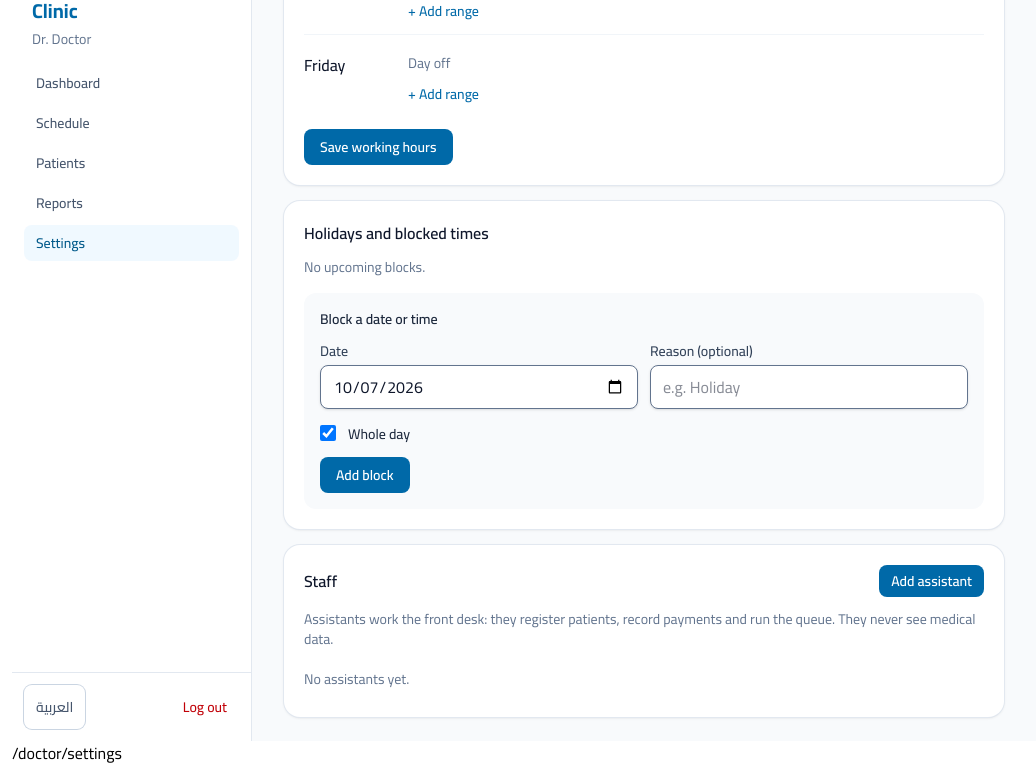
Test: Settings: blocked dates › adds a whole-day holiday
(page scrolled)
Expected: the text "No upcoming blocks." is shown, x1=304 y1=254 x2=425 y2=280
Type "2026-10-06" into the date field labelled "Date" at (479, 387), box x1=320 y1=365 x2=638 y2=409
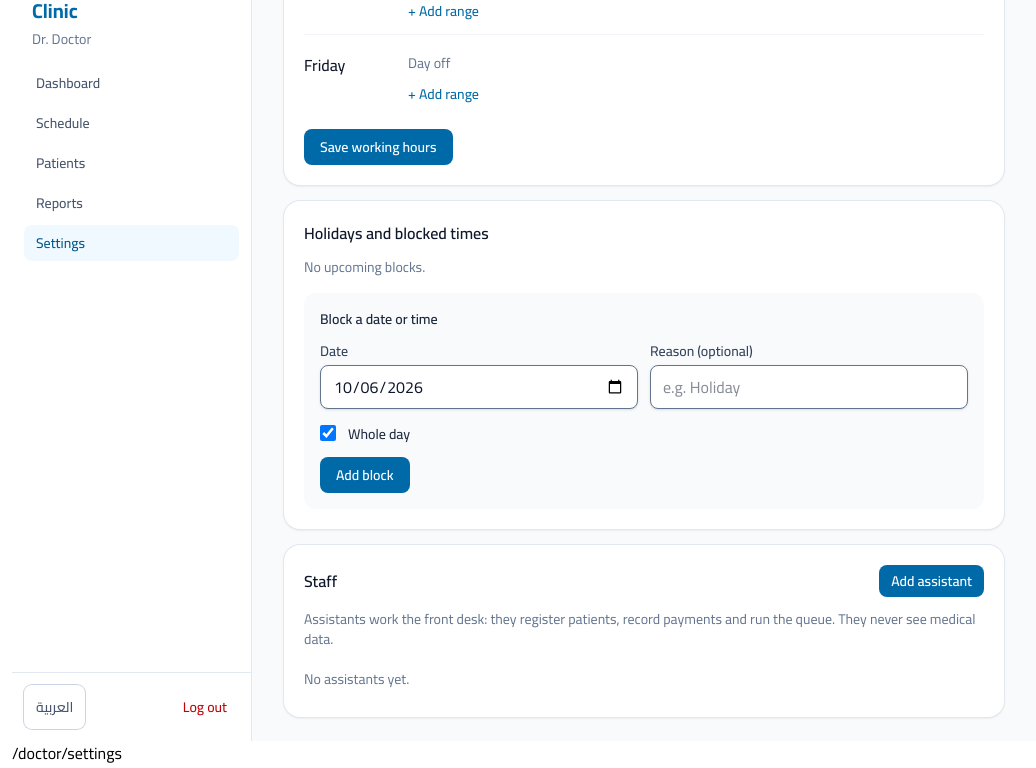
Type "Holiday" into the field labelled "Reason (optional)" at (809, 387), box x1=650 y1=365 x2=968 y2=409
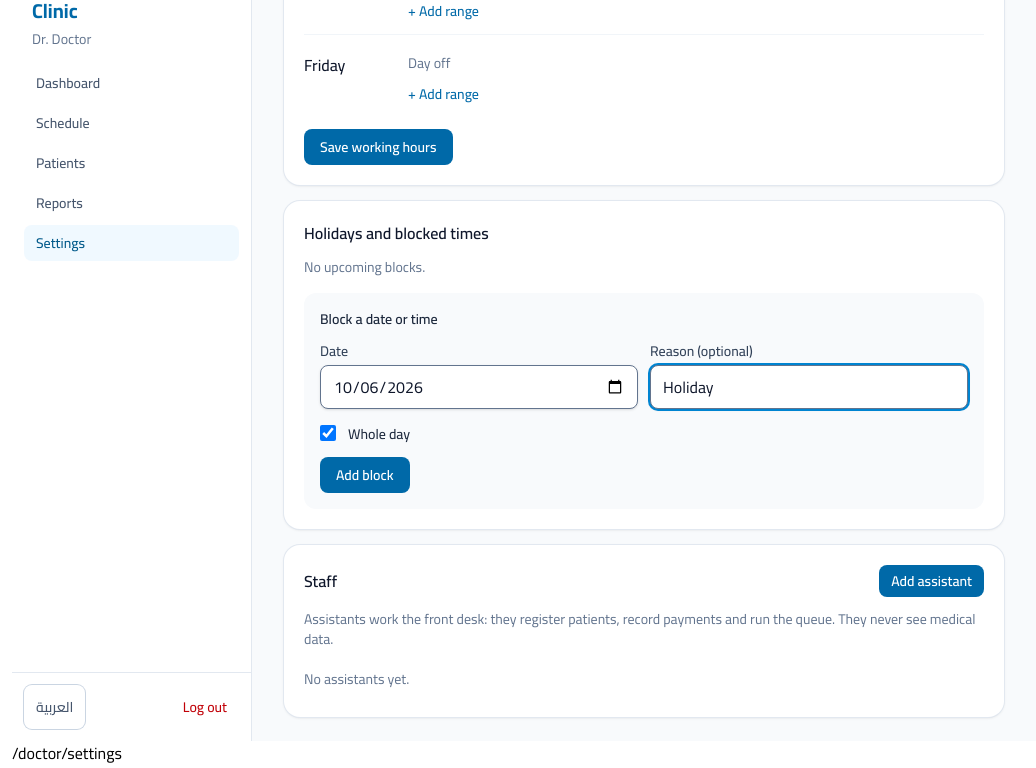
Click the button "Add block" at (365, 475), box x1=320 y1=457 x2=410 y2=493
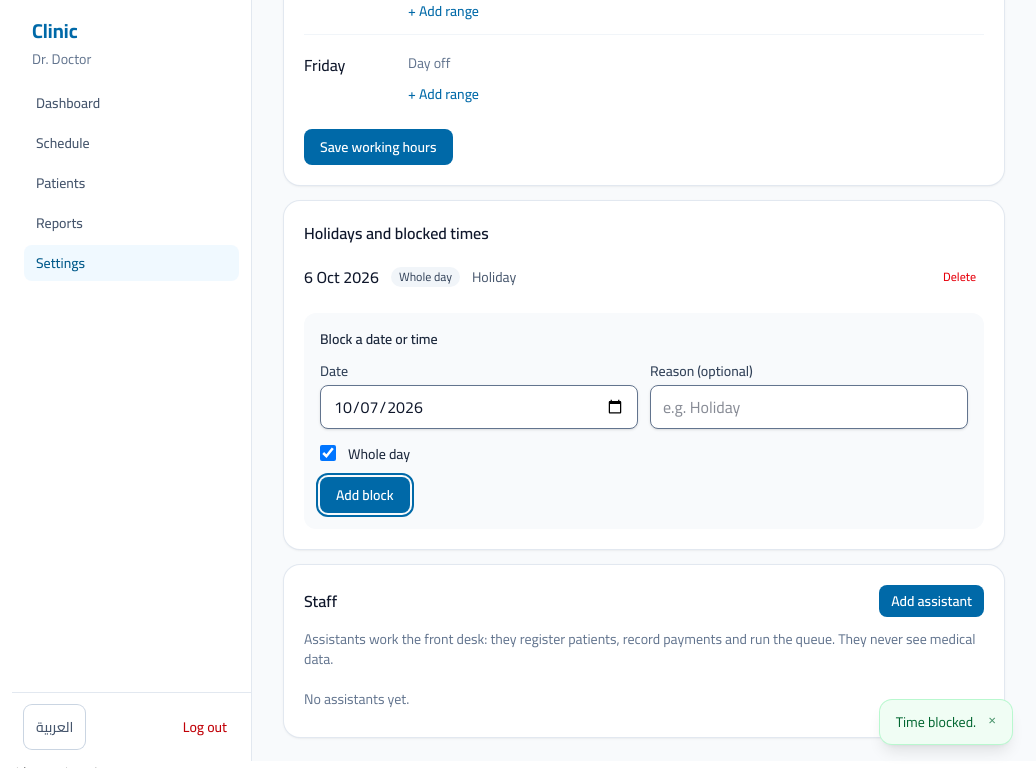
Expected: the text "Time blocked." is shown, x1=896 y1=712 x2=976 y2=732
Expected: the text "Holiday" is shown, x1=472 y1=267 x2=516 y2=287
